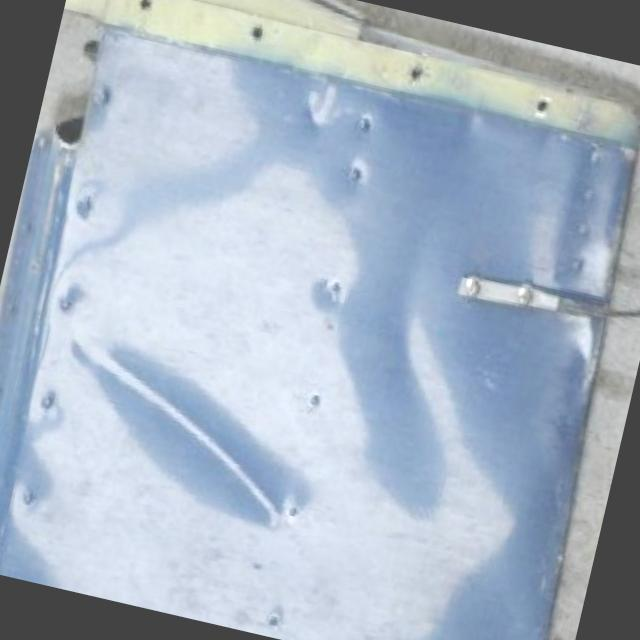dent: (82, 351, 284, 528)
